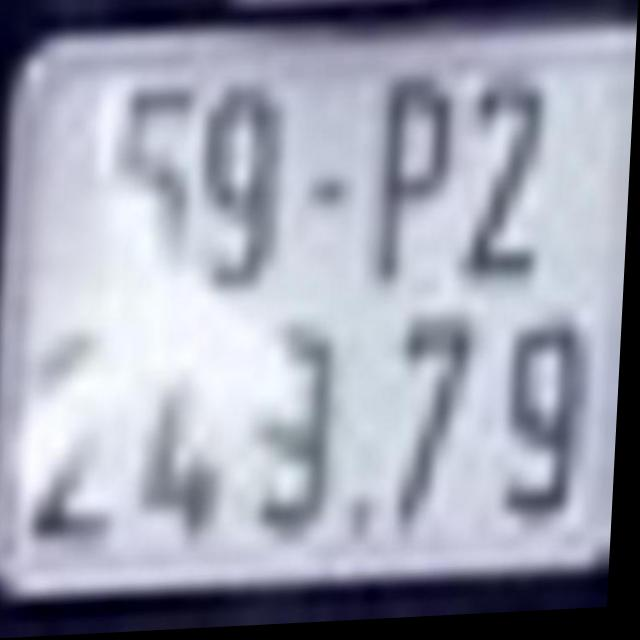2: (41, 334, 134, 544), (468, 81, 552, 289)
4: (142, 330, 233, 544)
5: (116, 87, 199, 302)
7: (397, 318, 481, 535)
9: (249, 324, 341, 541), (200, 88, 291, 294), (507, 326, 589, 526)
P: (376, 77, 463, 301)
